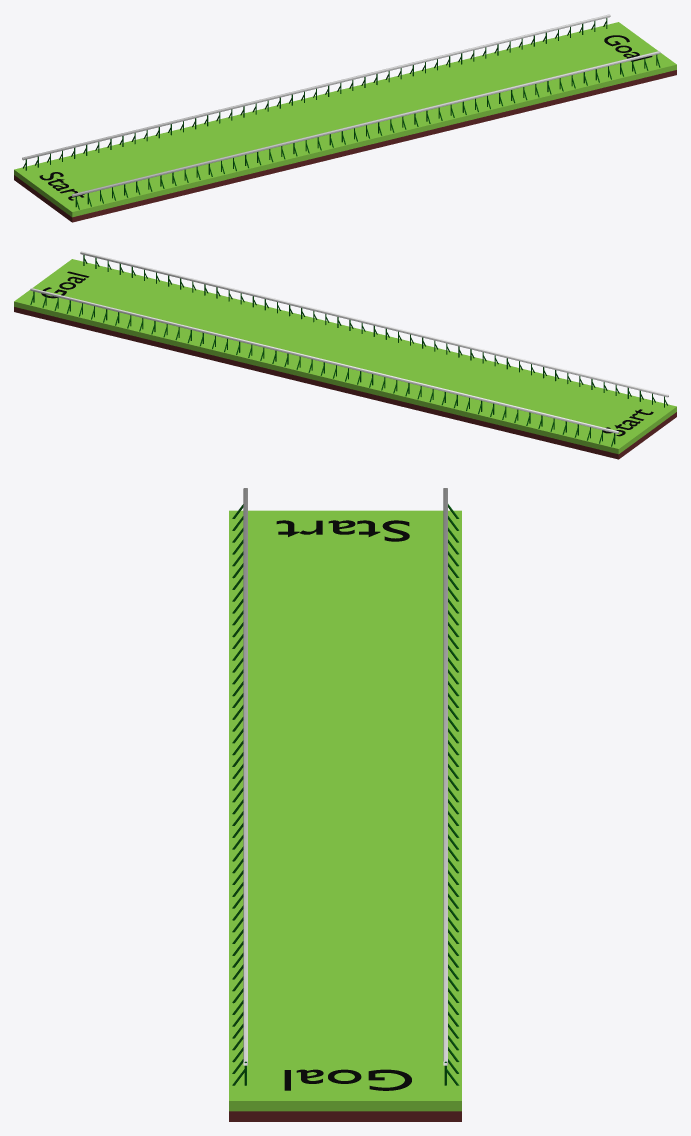
File: racetrack_rev01.fbx
The picture shows the model from 3 angles, top to bottom: view 1: azimuth 30°, elevation 25°; view 2: azimuth 150°, elevation 25°; view 3: azimuth 270°, elevation 25°; orthographic projection. The views are drawn at different scales.
Parts seen in each view (by area): view 1: Cylinder_right; view 2: Cylinder_right; view 3: Cylinder_right.
Part boxes in pixels (left/top/right/bottom): Cylinder_right: left=14, top=14, right=676, bottom=222; Cylinder_right: left=14, top=251, right=676, bottom=459; Cylinder_right: left=229, top=488, right=461, bottom=1121.
Bounding box in the file's own units: 6 × 0.2269 × 1.
